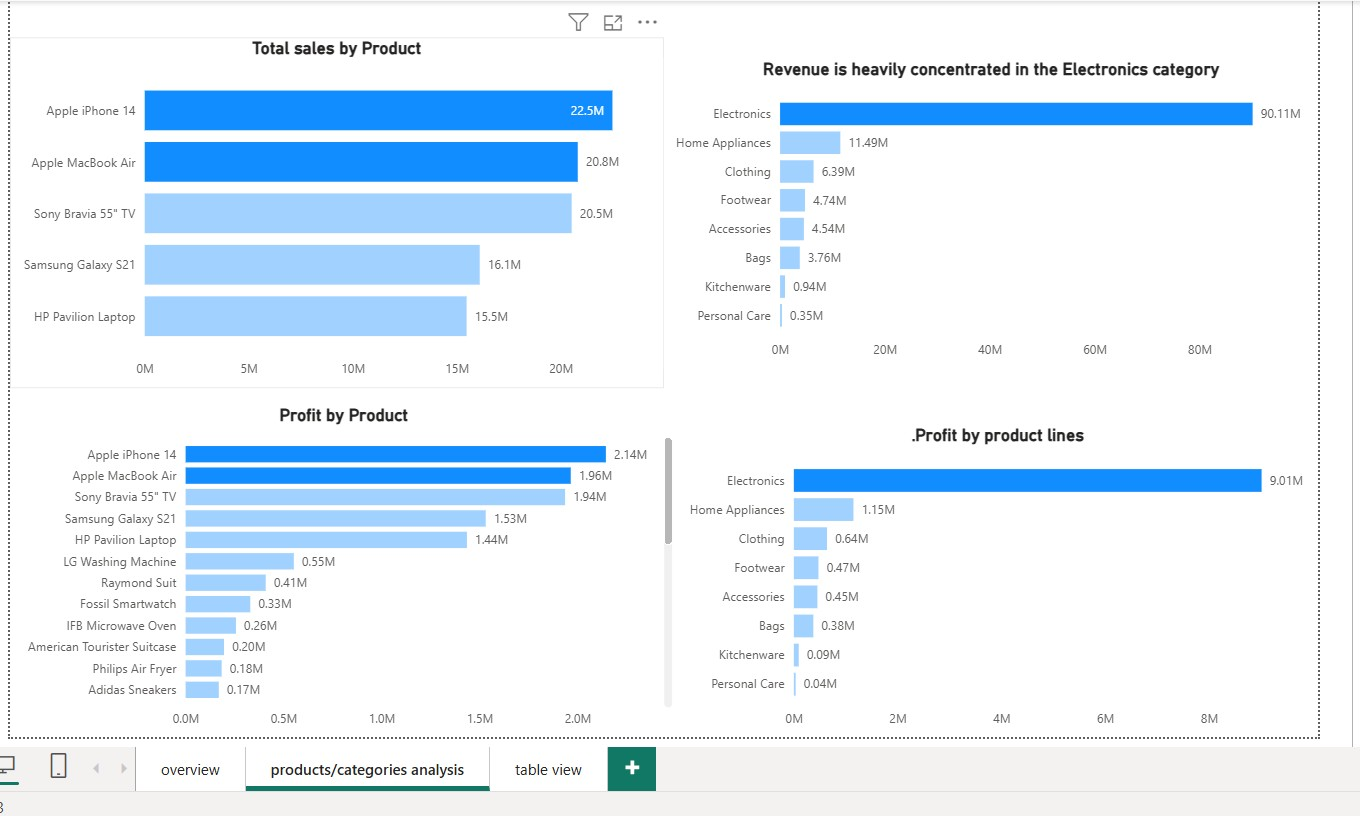

The page's visual inventory and layout, read from the dashboard file:
{"tool":"powerbi","page":{"name":"products/categories analysis ","canvas":[1280,720],"ordinal":1},"visuals":[{"type":"barChart","title":"Total sales by Product","fields":{"Category":["Dim Product.Product Name"],"Y":["Sum(Fact table.Total sales)"]},"box":[0,35.7,639.5,343.1],"z":0},{"type":"barChart","title":".Profit by product lines","fields":{"Category":["Dim Product.Product Line"],"Y":["Sum(Fact table.Profit)"]},"box":[653.2,414.4,627.1,306],"z":1000},{"type":"barChart","title":"Revenue is heavily concentrated in the Electronics category","fields":{"Category":["Dim Product.Product Line"],"Y":["Fact table.Total Revenue"]},"box":[639.5,56.3,640.8,303.3],"z":2000},{"type":"barChart","title":" Profit by Product ","fields":{"Category":["Dim Product.Product Name"],"Y":["Sum(Fact table.Profit)"]},"box":[0,395.2,653.2,325.2],"z":3000}]}

Visuals, with their boxes on the page's 1280x720 design canvas (x1, y1, x2, y2). These are canvas units, not pixel positions in the 1360x816 screenshot, which may show the page scaled, cropped or inside an application window:
"Total sales by Product" barChart: rect(0, 36, 640, 379)
".Profit by product lines" barChart: rect(653, 414, 1280, 720)
"Revenue is heavily concentrated in the Electronics category" barChart: rect(640, 56, 1280, 360)
" Profit by Product " barChart: rect(0, 395, 653, 720)
